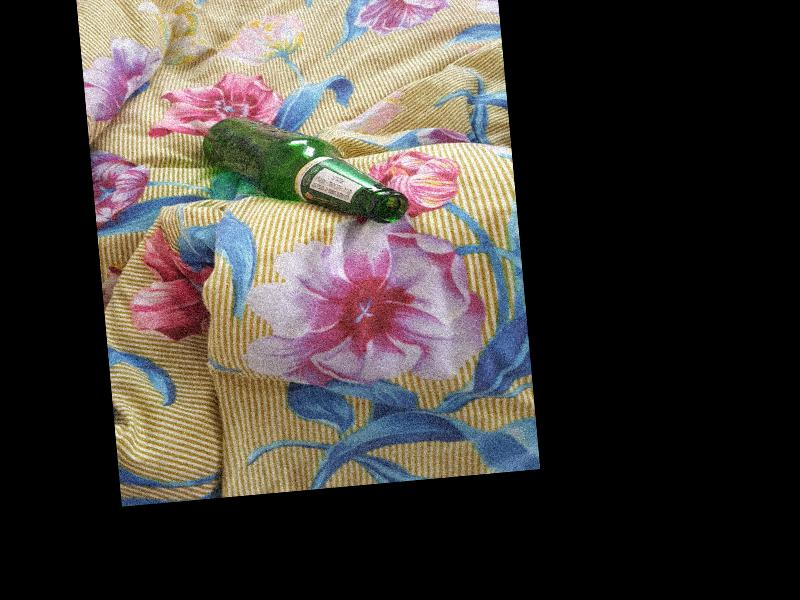Beer: (203, 103, 408, 240)
